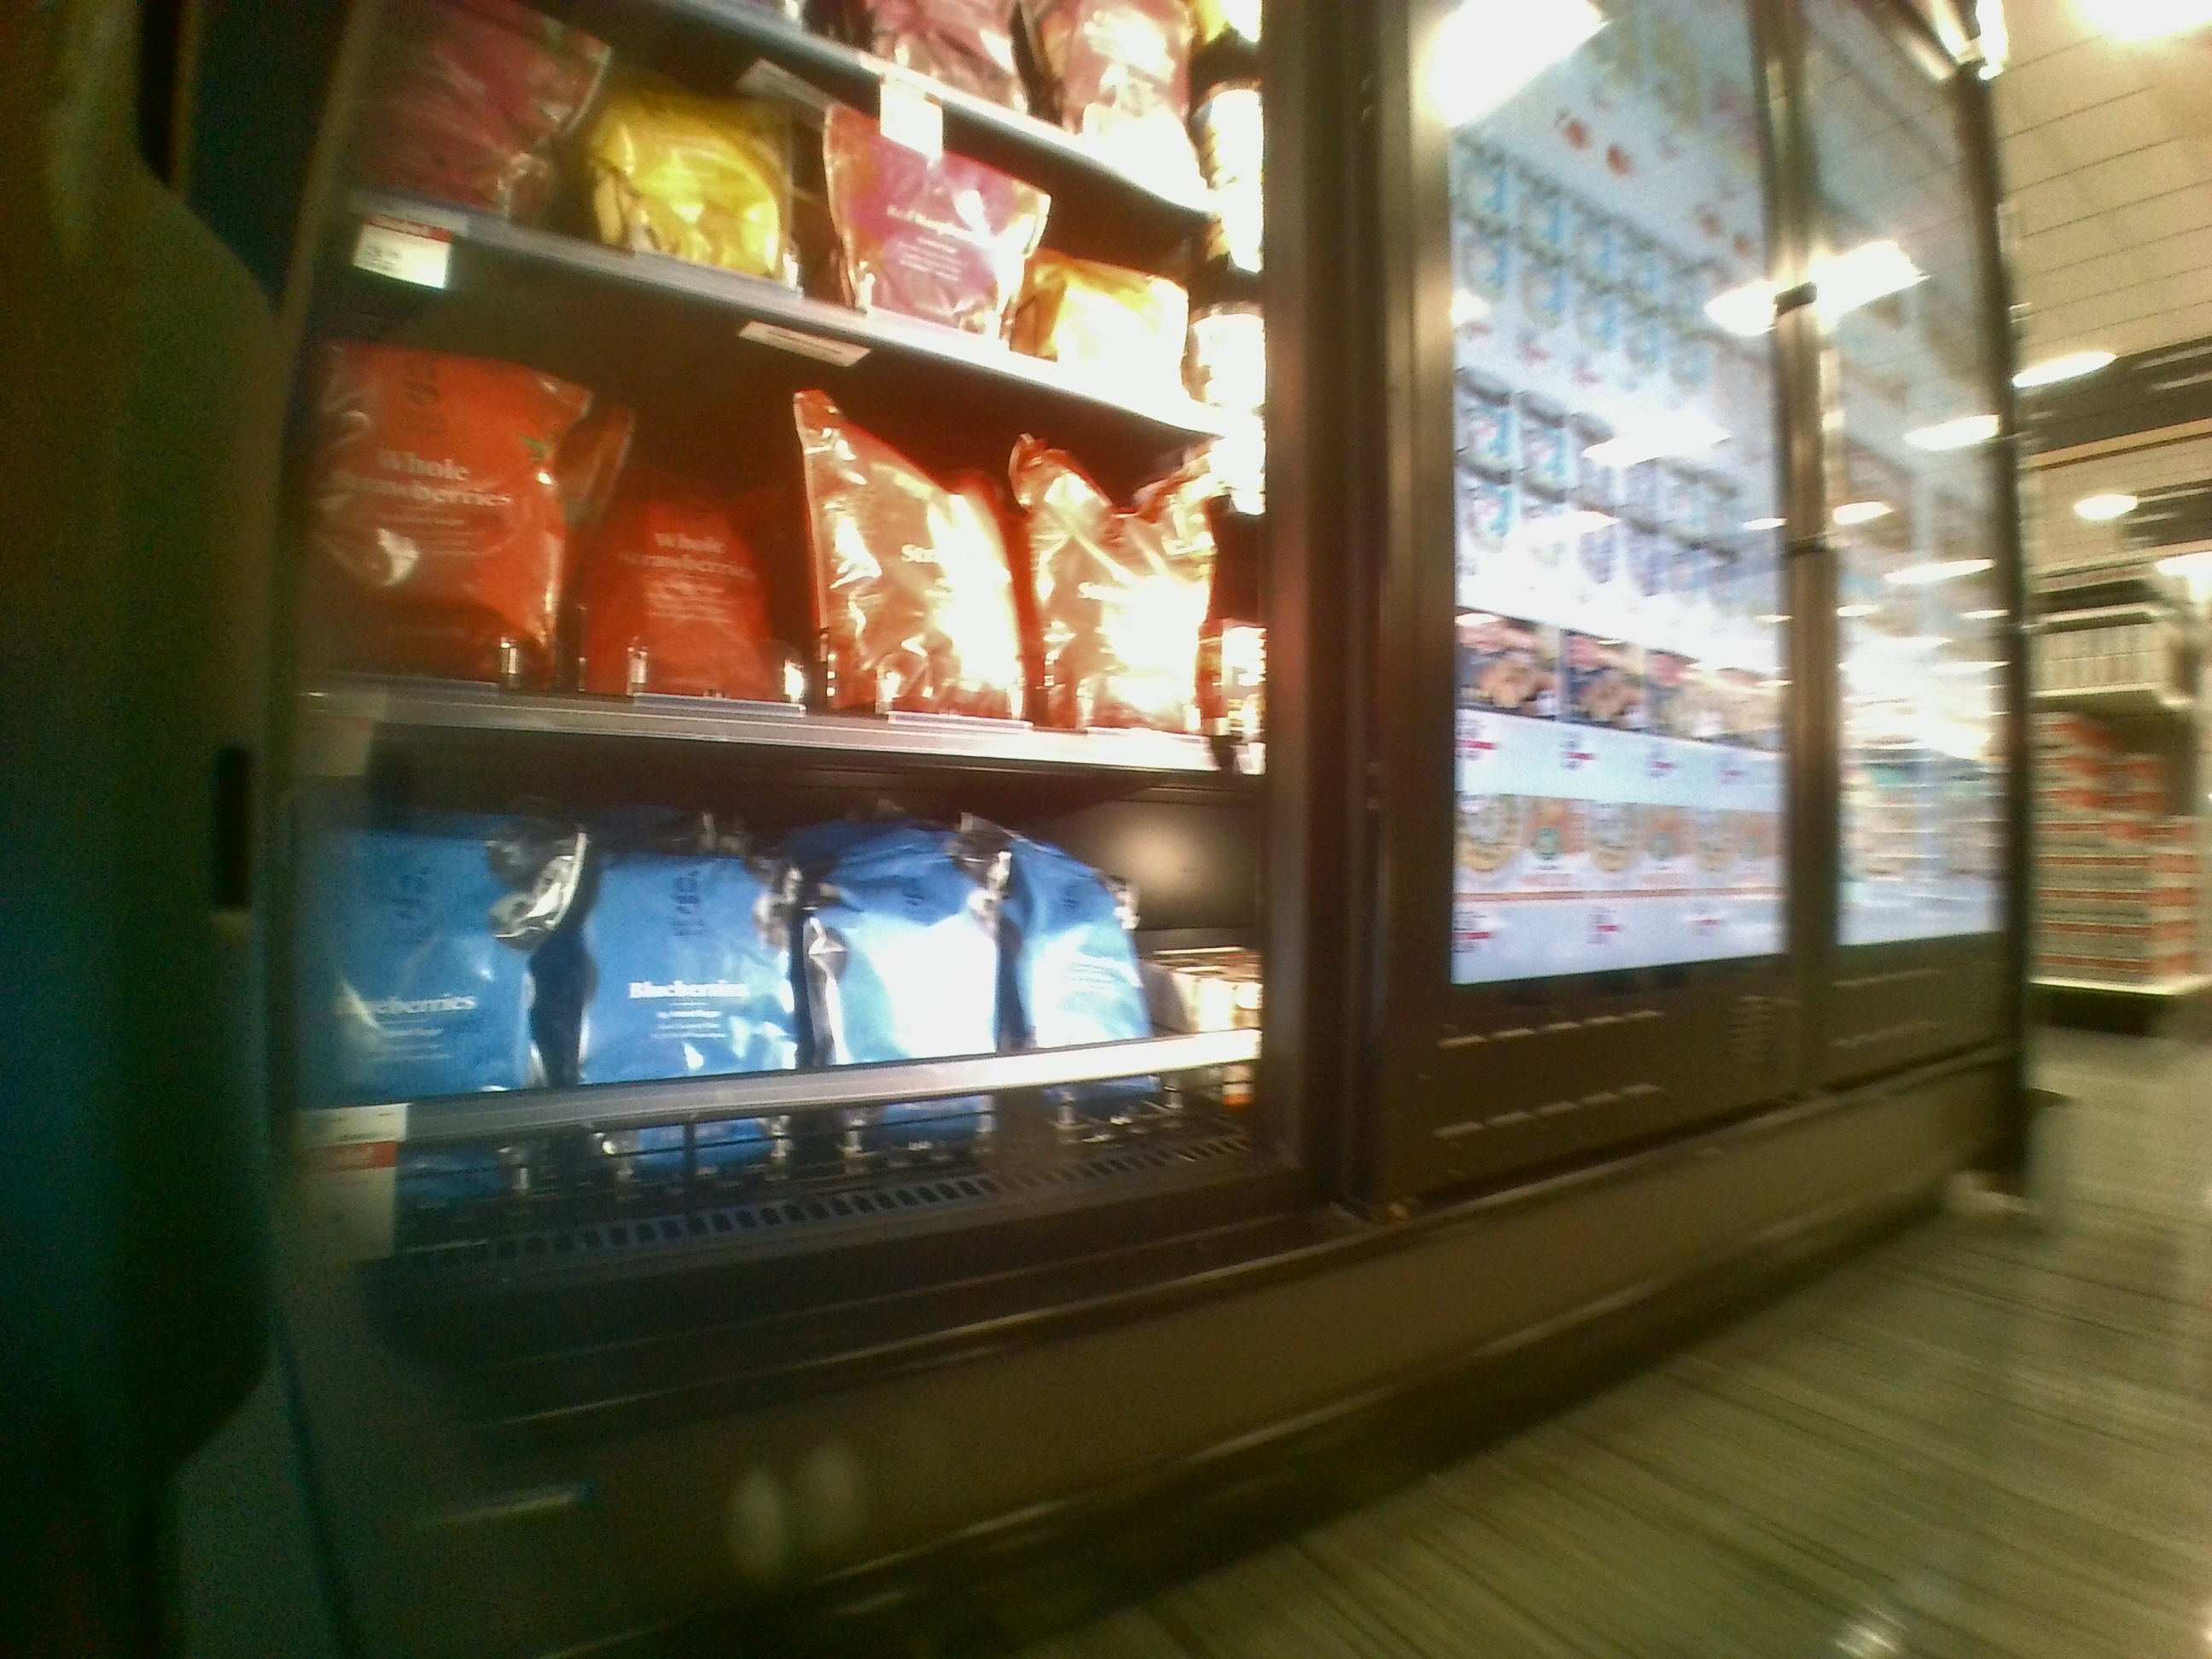shelf: (296, 749, 1256, 1175), (312, 382, 1259, 758)
